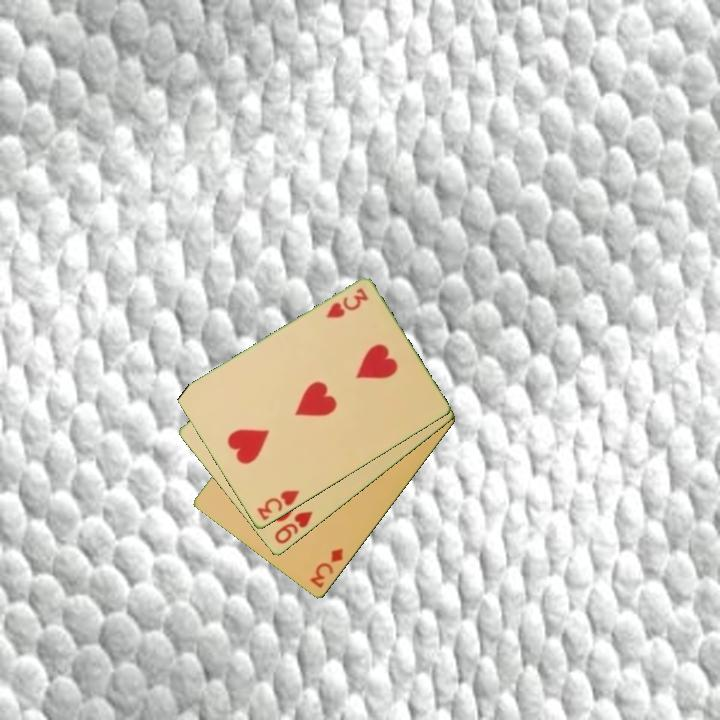3d: (307, 545, 346, 592)
3h: (253, 487, 302, 524), (322, 285, 371, 322)
9h: (271, 508, 316, 547)
